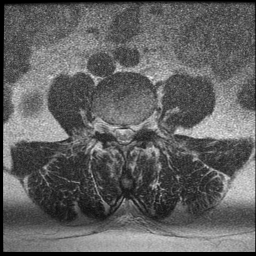CCS_normal: (120, 119, 128, 150)
LFS_normal: (136, 112, 144, 139)
LLS_normal: (128, 119, 136, 147)
RFS_normal: (104, 113, 112, 142)
RLS_normal: (112, 117, 120, 148)
